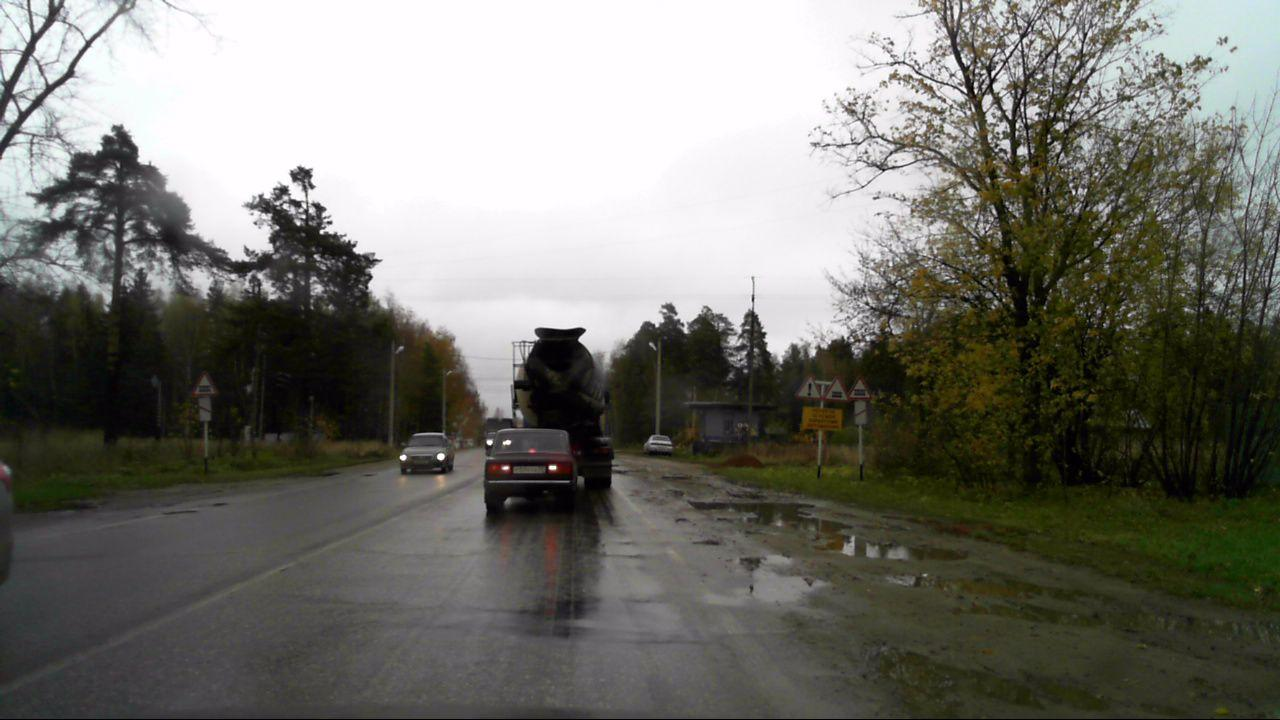1_1: (823, 375, 848, 402), (191, 372, 219, 396), (849, 376, 870, 398)
1_33: (794, 373, 821, 401)
1_4_3: (853, 401, 868, 425)
1_4_6: (199, 397, 213, 423)
